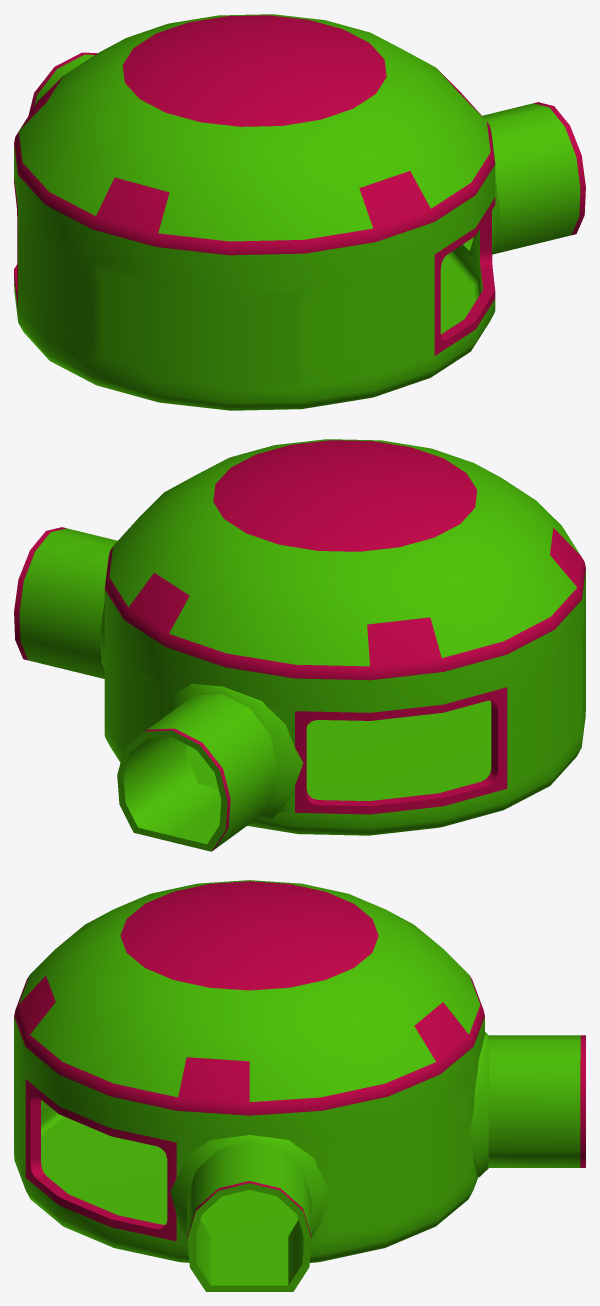
Rendered from arc_sci_base-Domehouse-Dome-A.fbx.
3 views of the same model, one above another, from view 1: azimuth 30°, elevation 25°; view 2: azimuth 150°, elevation 25°; view 3: azimuth 270°, elevation 25° (orthographic). The views are drawn at different scales.
Parts seen in each view (by area): view 1: arc_sci_base-Domehouse-Dome-A; view 2: arc_sci_base-Domehouse-Dome-A; view 3: arc_sci_base-Domehouse-Dome-A.
Part boxes in pixels (bbox=[...]): arc_sci_base-Domehouse-Dome-A: bbox=[14, 14, 585, 410]; arc_sci_base-Domehouse-Dome-A: bbox=[14, 439, 585, 851]; arc_sci_base-Domehouse-Dome-A: bbox=[14, 880, 585, 1291].
Size of the model in its own units: 12.46 by 6.13 by 12.46.
